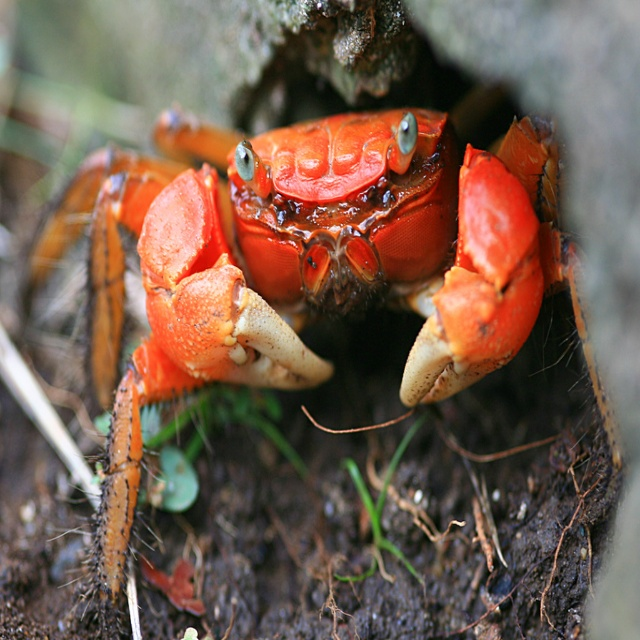Crab: (14, 107, 627, 640)
